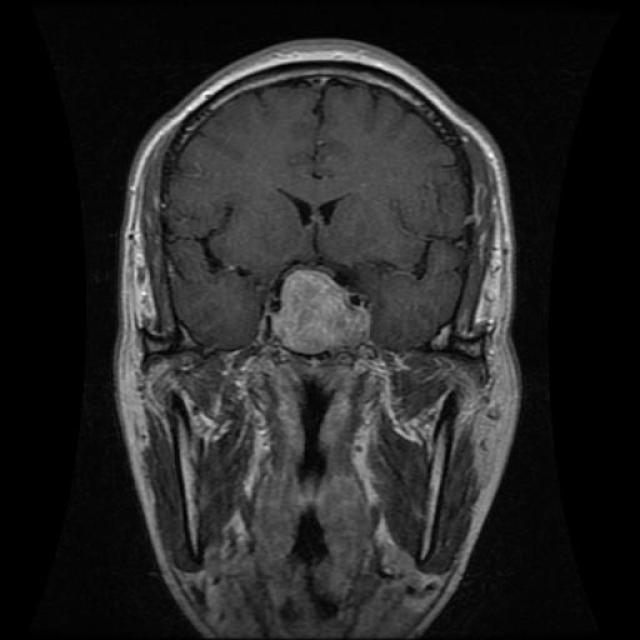pituitary: (254, 268, 380, 366)
